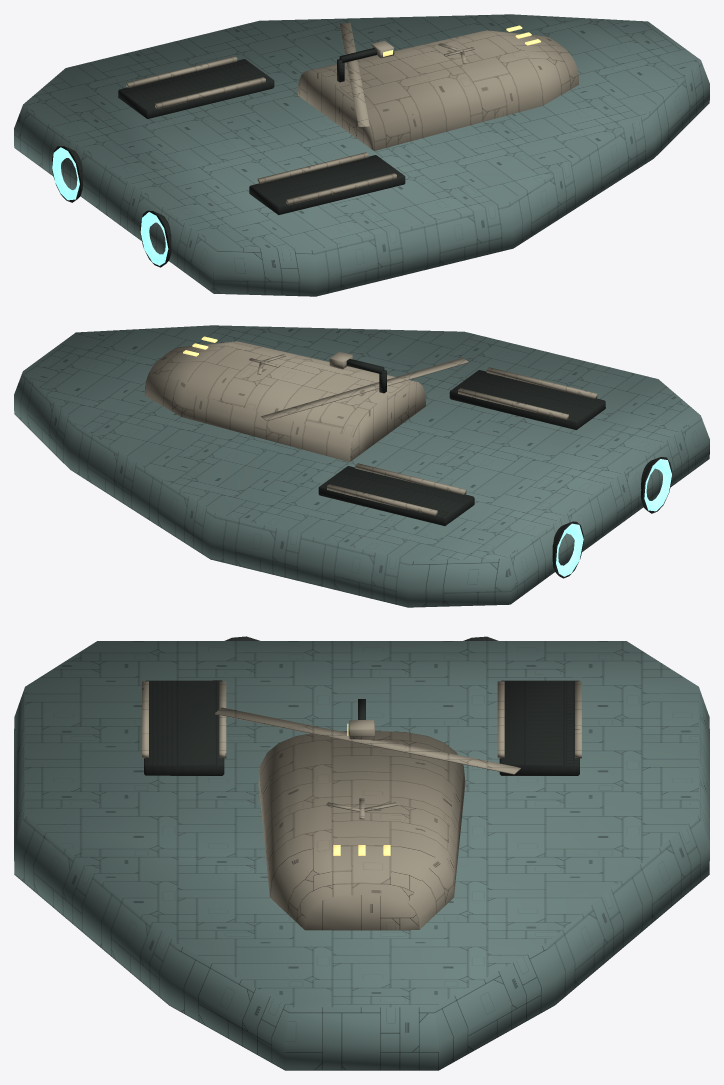
File: towline_kit_lod2.glb
3 renders of one model, top to bottom at view 1: azimuth 30°, elevation 25°; view 2: azimuth 150°, elevation 25°; view 3: azimuth 270°, elevation 25°, orthographic. The views are drawn at different scales.
Visible parts, largest first — view 1: LOD2_Hull, LOD2_Armor, LOD2_MechanicalDark, LOD2_HOOK_DRIVE_CORE, LOD2_Livery, LOD2_MOTION_TOWLINE_ACKNOWLEDGE_MechanicalDark; view 2: LOD2_Hull, LOD2_Armor, LOD2_MechanicalDark, LOD2_Livery, LOD2_HOOK_DRIVE_CORE, LOD2_MOTION_TOWLINE_ACKNOWLEDGE_MechanicalDark; view 3: LOD2_Hull, LOD2_Armor, LOD2_MechanicalDark, LOD2_Livery.
Part boxes in pixels (<box>): LOD2_Hull: <box>14,14,709,296</box>; LOD2_Armor: <box>126,30,579,205</box>; LOD2_MechanicalDark: <box>52,59,405,267</box>; LOD2_HOOK_DRIVE_CORE: <box>52,147,168,265</box>; LOD2_Livery: <box>339,23,474,127</box>; LOD2_MOTION_TOWLINE_ACKNOWLEDGE_MechanicalDark: <box>337,48,377,82</box>; LOD2_Hull: <box>14,325,709,607</box>; LOD2_Armor: <box>144,341,597,516</box>; LOD2_MechanicalDark: <box>318,370,672,578</box>; LOD2_Livery: <box>249,354,468,420</box>; LOD2_HOOK_DRIVE_CORE: <box>556,459,671,576</box>; LOD2_MOTION_TOWLINE_ACKNOWLEDGE_MechanicalDark: <box>346,359,386,393</box>; LOD2_Hull: <box>14,641,709,1070</box>; LOD2_Armor: <box>142,681,581,930</box>; LOD2_MechanicalDark: <box>144,636,579,775</box>; LOD2_Livery: <box>215,707,520,819</box>.
Size of what is drawn, in the model's own units: 23.14 by 4.69 by 18.
Materials: 6 (4 with a texture image).
